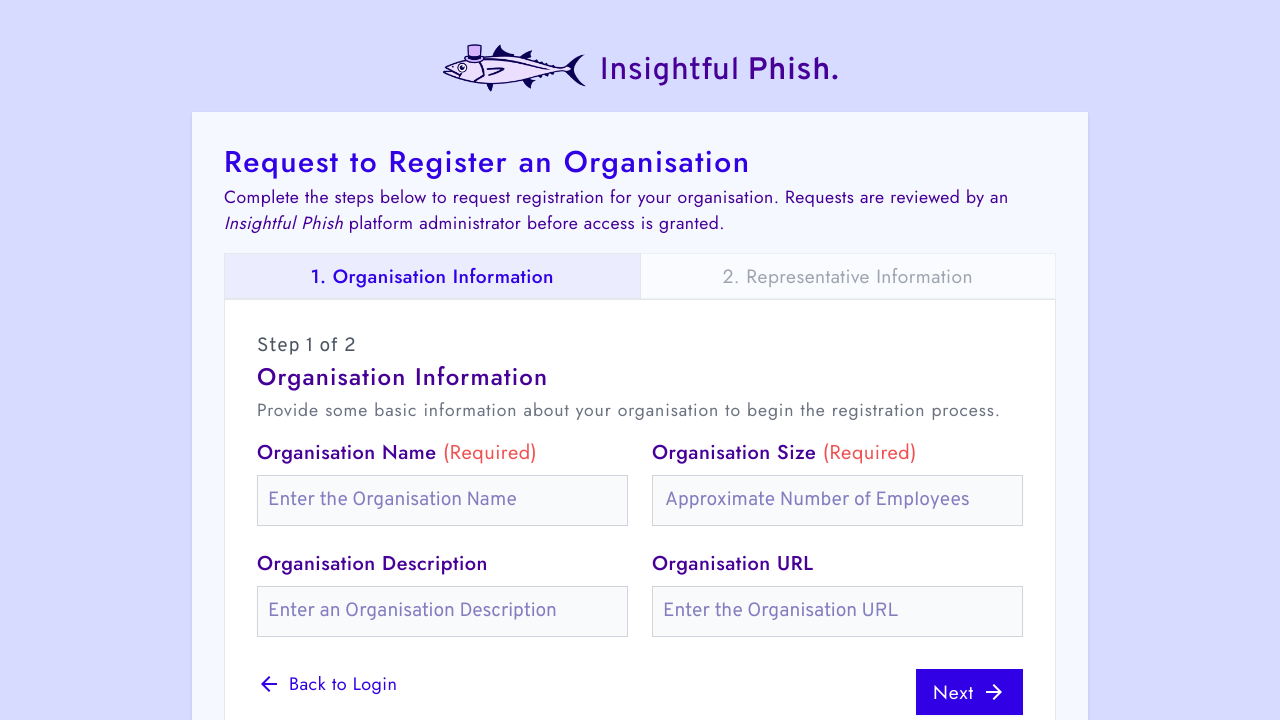
Scenario: OrganisationRegistrationRequestPage › rejects non-integer organisation sizes before submit
In the field labelled "Organisation Name (Required)": (442, 500) [257,475,628,526], type "CBELL Plumbing"
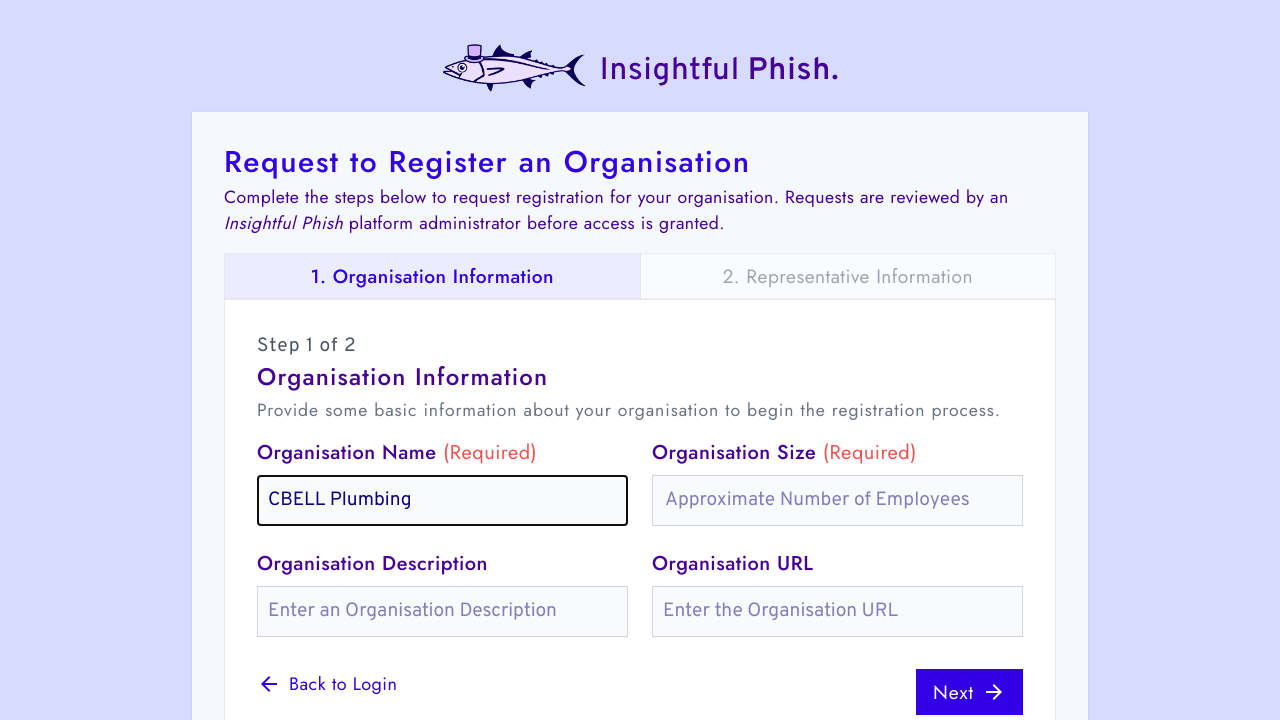
In the number field labelled "Organisation Size (Required)": (838, 500) [652,475,1023,526], type "25.5"
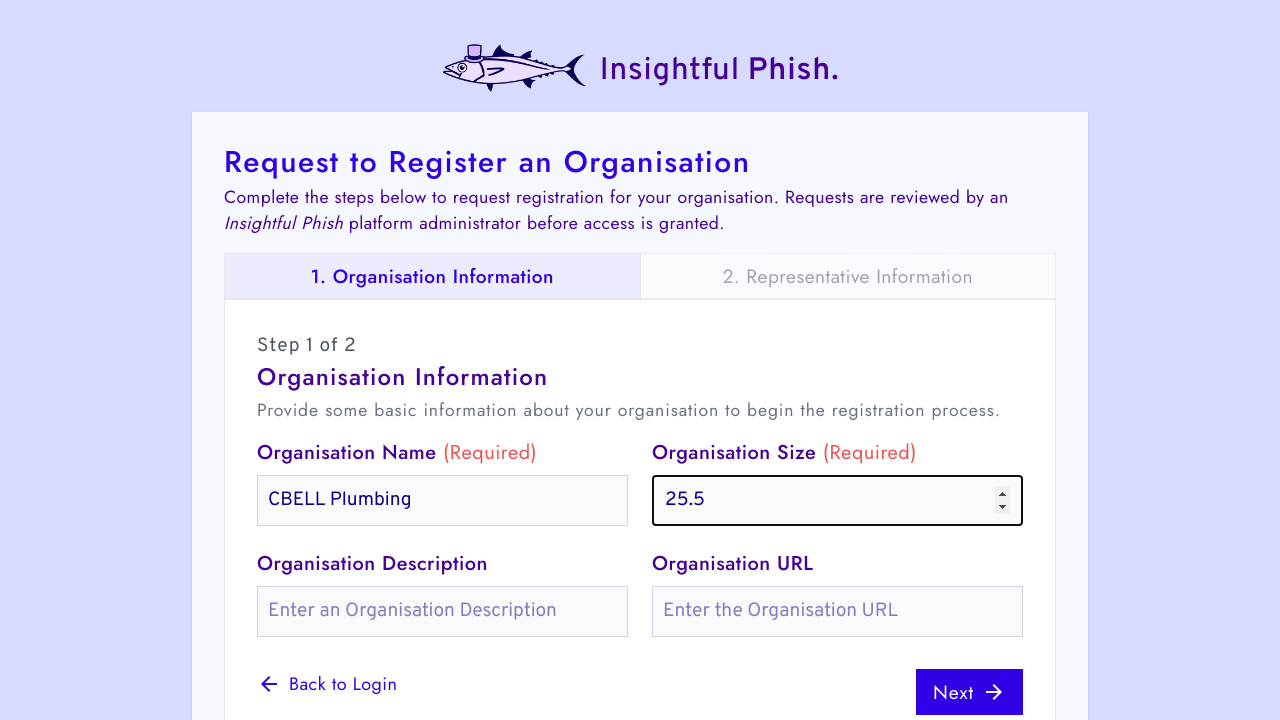
Click the button "Next": (970, 692) [916,668,1023,714]
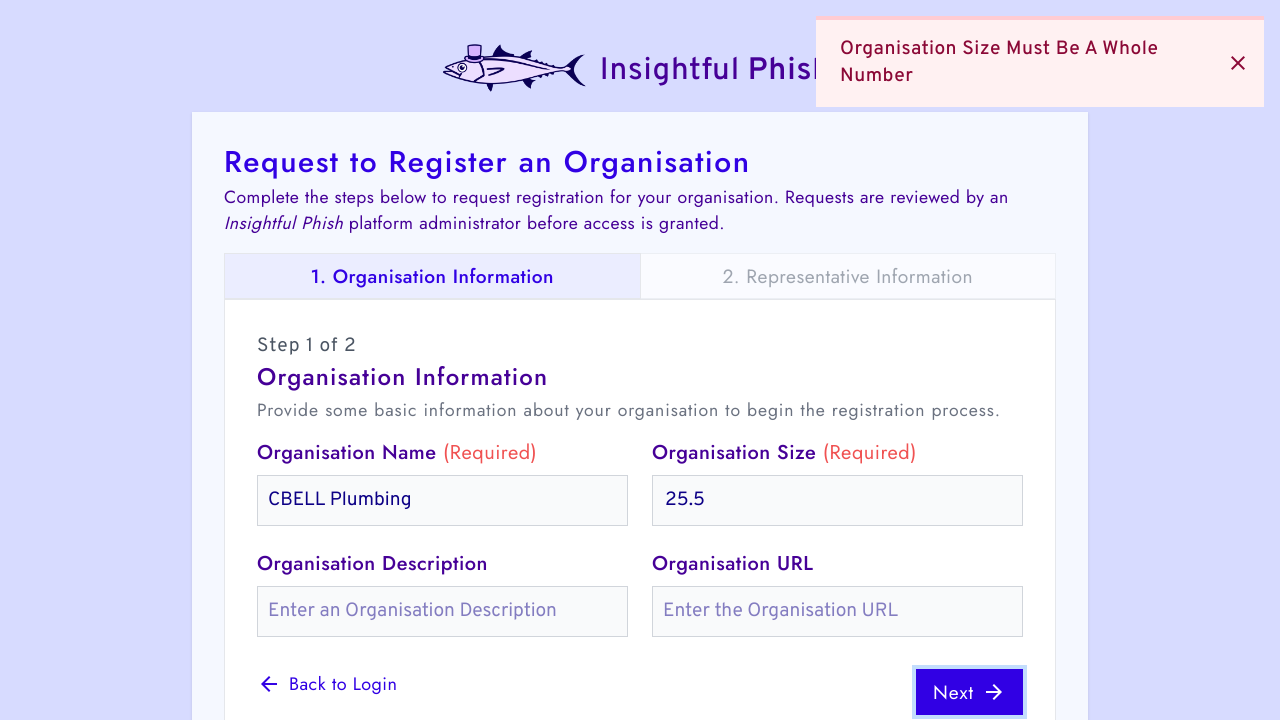
Check: the text "Organisation Size Must Be A Whole Number" is shown, box [840,37,1158,88]
